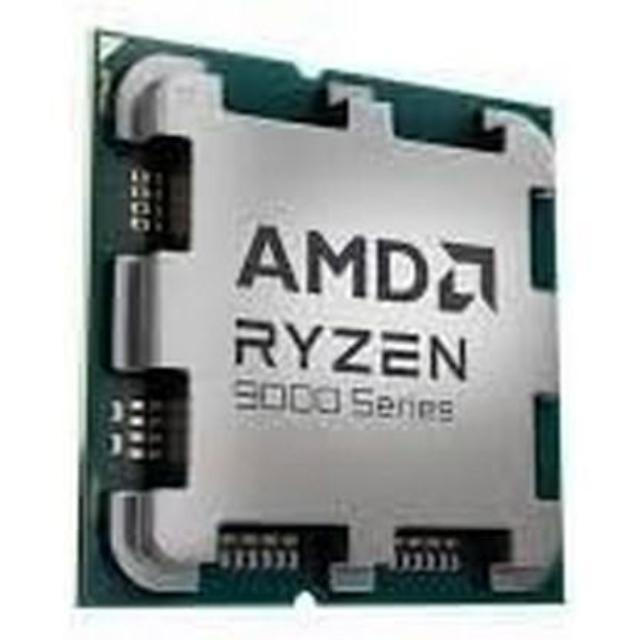CPU: (99, 26, 558, 606)
